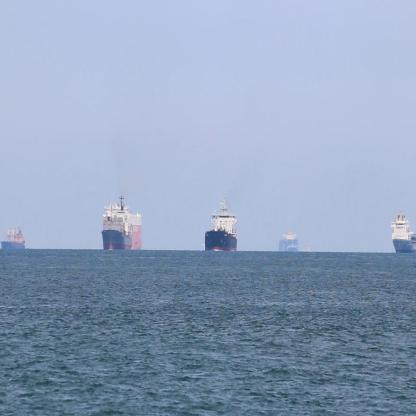Container Ship: (100, 192, 143, 254), (204, 192, 238, 254), (390, 210, 416, 255), (1, 226, 26, 252), (278, 227, 296, 256), (294, 244, 308, 256)
